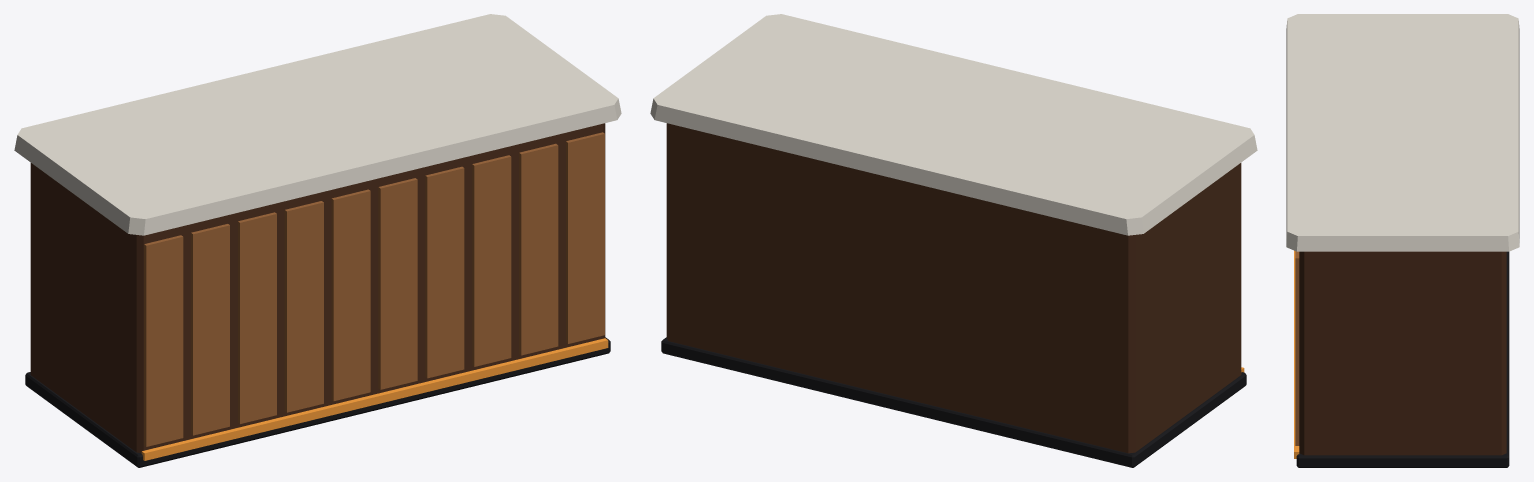
File: counter.obj
The picture shows the model from 3 angles, left to right: view 1: azimuth 30°, elevation 25°; view 2: azimuth 150°, elevation 25°; view 3: azimuth 270°, elevation 25°; orthographic projection. The views are drawn at different scales.
Parts seen in each view (by area): view 1: counter; view 2: counter; view 3: counter.
Part boxes in pixels (bbox=[...]): counter: bbox=[14, 14, 621, 467]; counter: bbox=[650, 14, 1257, 467]; counter: bbox=[1286, 14, 1519, 467].
Size of the model in its own units: 2 by 0.98 by 0.88.
